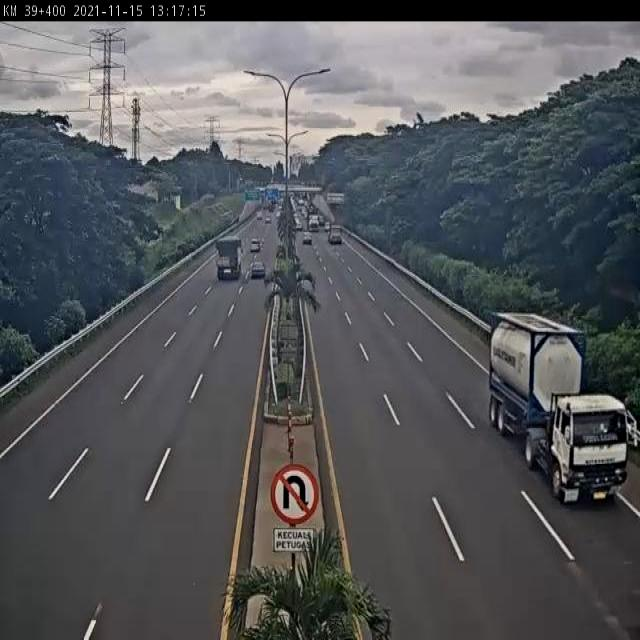Car: (249, 253, 269, 284), (329, 219, 346, 248), (249, 231, 262, 257)
Truck: (486, 305, 636, 511), (209, 229, 244, 286)
